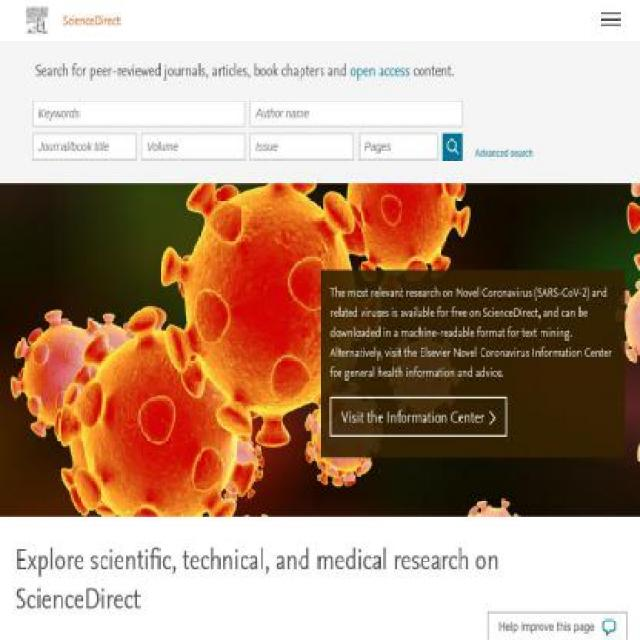button: (329, 397, 508, 437), (487, 612, 628, 639), (20, 6, 122, 34), (442, 133, 462, 161), (14, 637, 200, 638), (385, 637, 566, 638), (284, 637, 385, 638), (200, 637, 285, 638)
field: (32, 99, 245, 127), (250, 99, 462, 127), (32, 133, 137, 161), (249, 133, 354, 161), (141, 133, 245, 161), (359, 133, 438, 161)
